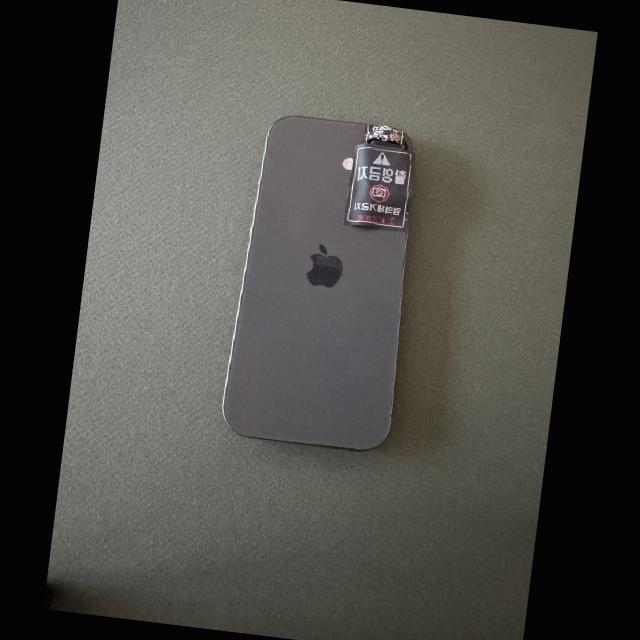lens: (371, 140, 403, 147)
phone: (222, 116, 414, 450)
sticker: (343, 143, 415, 232), (362, 123, 405, 145)
